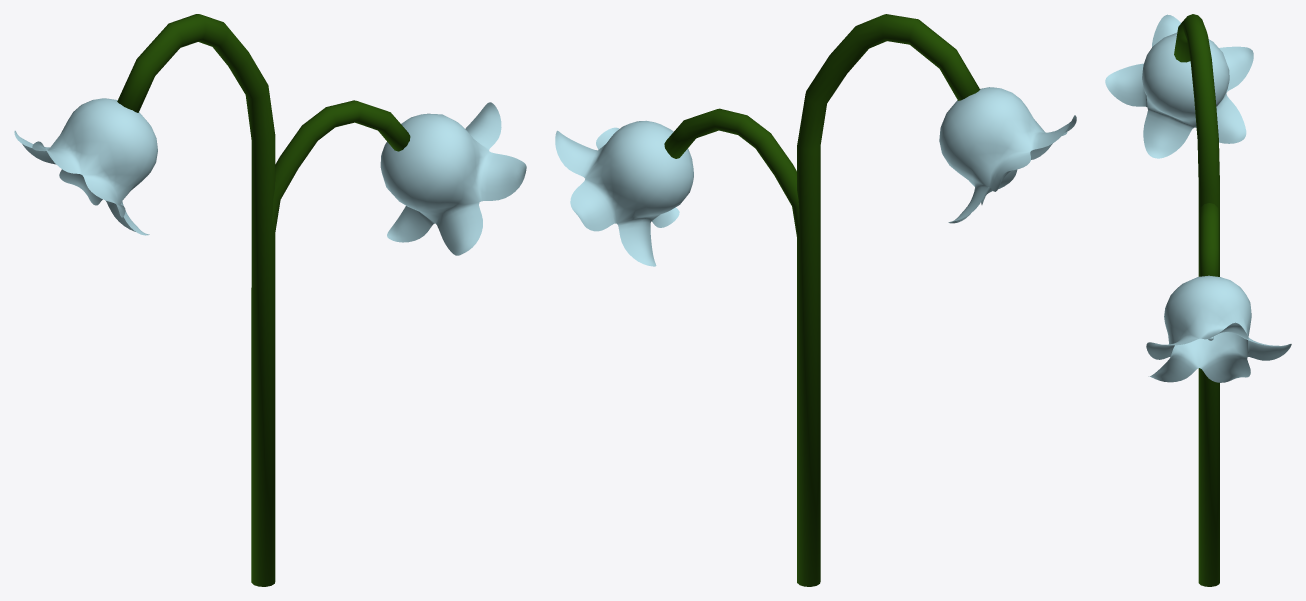
File: lily.fbx
3 views of the same model, side by side, from view 1: azimuth 30°, elevation 25°; view 2: azimuth 150°, elevation 25°; view 3: azimuth 270°, elevation 25° (orthographic). The views are drawn at different scales.
Visible parts, largest first — view 1: Icosphere.004; view 2: Icosphere.004; view 3: Icosphere.004.
Part boxes in pixels (box(x1,y1,x2,y2)): Icosphere.004: box(14, 14, 526, 586); Icosphere.004: box(555, 14, 1076, 586); Icosphere.004: box(1105, 14, 1291, 586).
Size of the model in its own units: 329 by 377 by 122.
